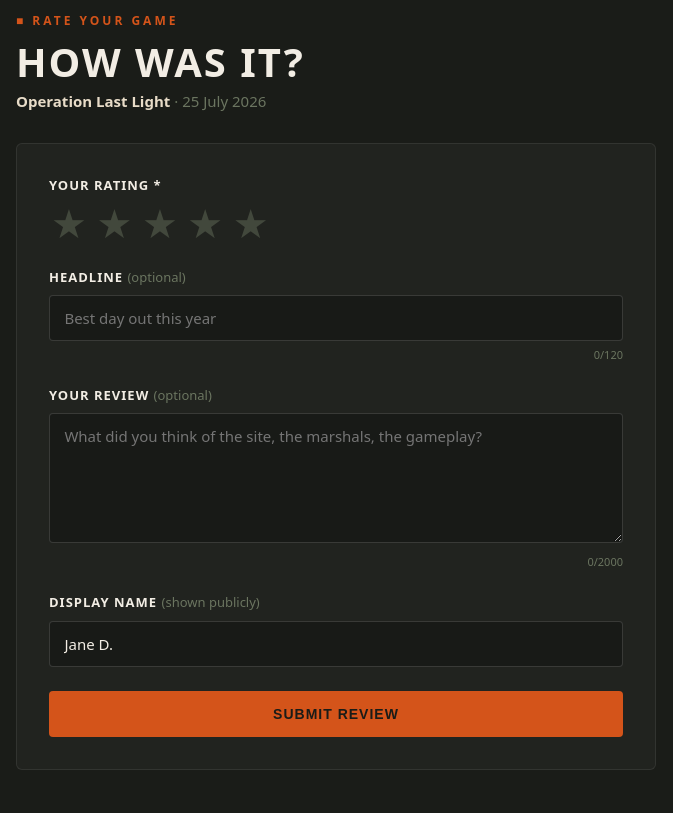
Test case: Review page › submitting with no rating shows an inline error, scrolls to the picker, and does not POST
Click the button "Submit review" at [336, 714], box [49, 691, 623, 737]
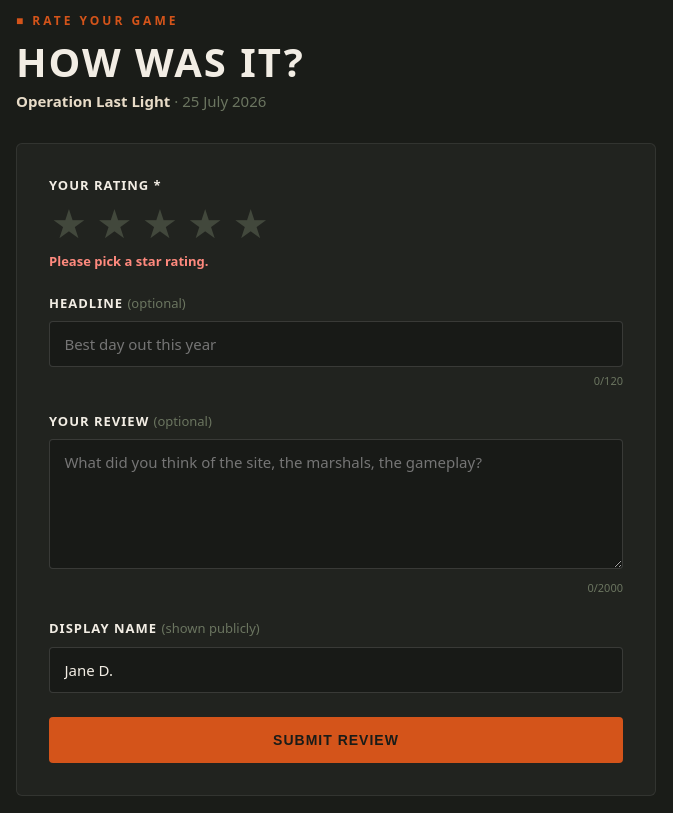
Expected: the text "Please pick a star rating." is shown, [49, 252, 209, 270]
